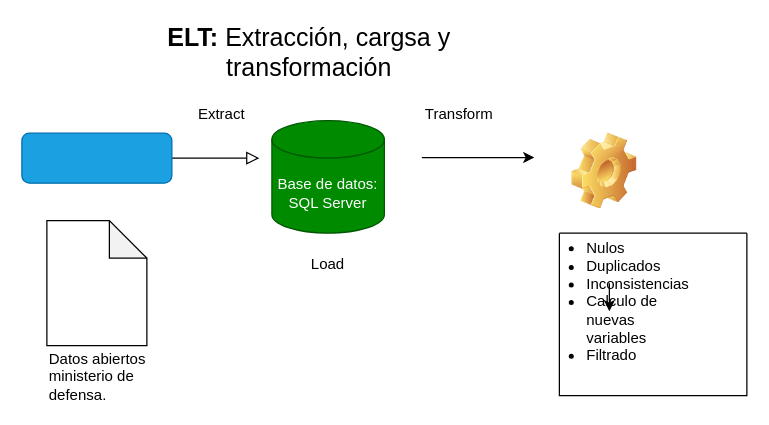
Image size: 769x425. Some labels were removed from this diagram. Each missing label, with the box of its shape:
Fuente de datos: (21, 132, 172, 183)
Homicidio.csv: (46, 219, 147, 346)
